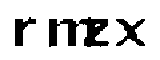m: (47, 14, 95, 50)
r: (10, 17, 36, 49)
x: (115, 16, 149, 49)
z: (84, 17, 111, 48)
